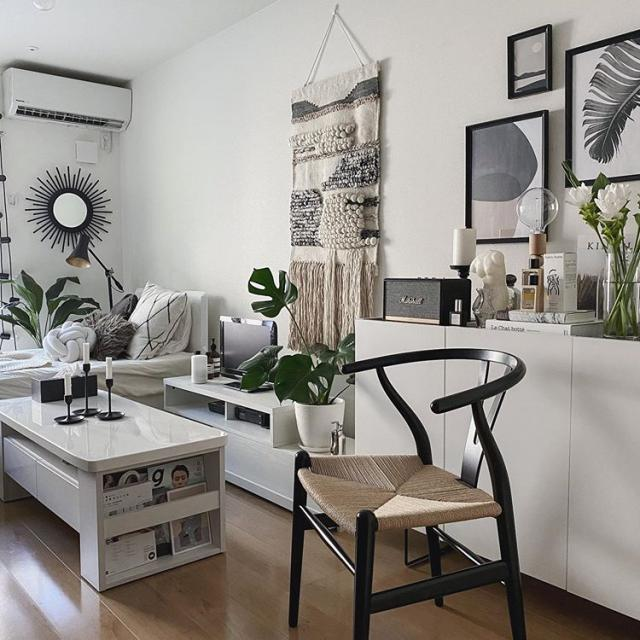modern chair: (268, 342, 533, 640)
modern desk: (0, 382, 235, 582)
modern shelf: (161, 360, 347, 534)
